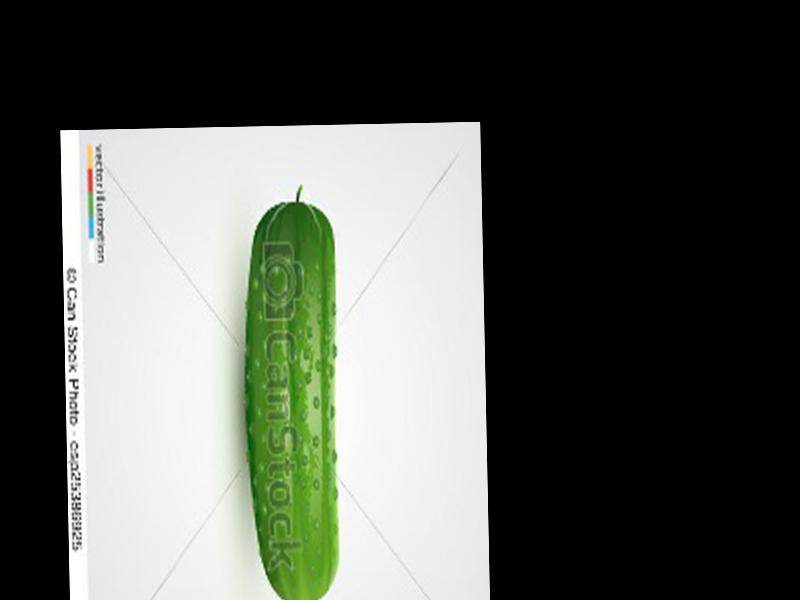Cucumber: (242, 184, 343, 600)
